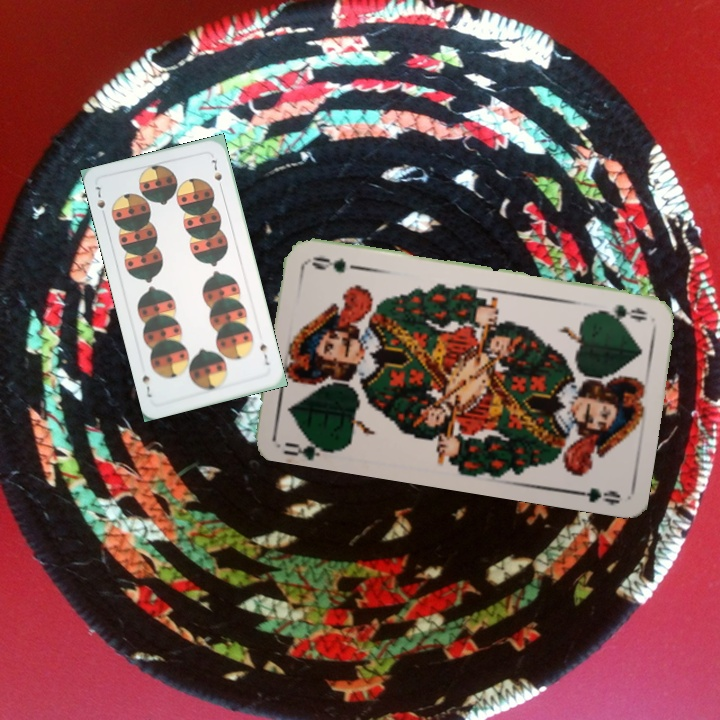GO: (280, 430, 336, 459), (592, 300, 650, 324)
S7: (91, 182, 108, 221), (256, 340, 272, 368)
